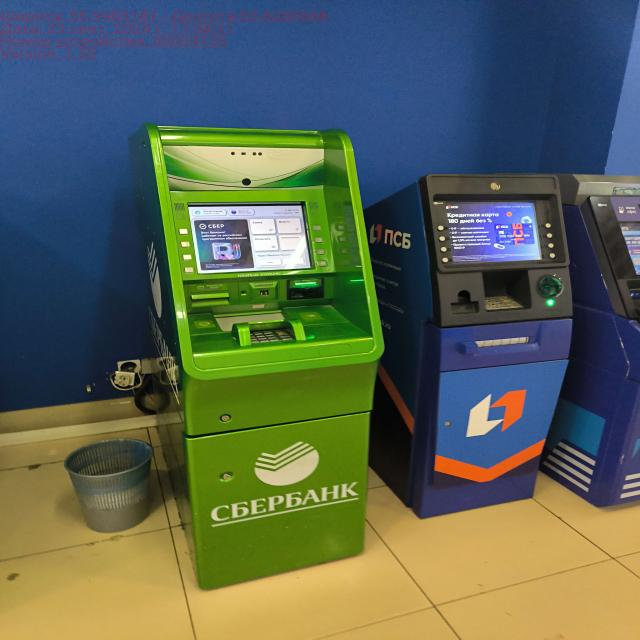bank: (138, 122, 385, 593)
